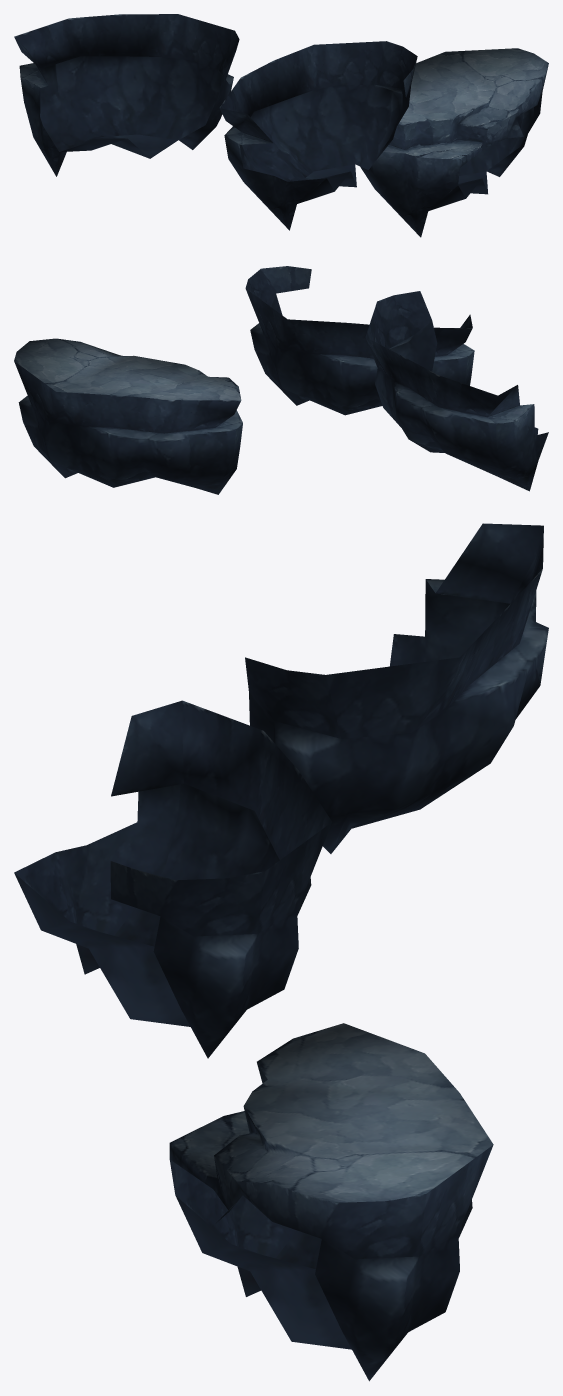
Rendered from Area_04_24.fbx.
The picture shows the model from 3 angles, top to bottom: view 1: azimuth 30°, elevation 25°; view 2: azimuth 150°, elevation 25°; view 3: azimuth 270°, elevation 25°; orthographic projection. The views are drawn at different scales.
Visible parts, largest first — view 1: Area_04_24; view 2: Area_04_24; view 3: Area_04_24.
Boxes of the visible parts, x1=… form: Area_04_24: x1=14, y1=14, x2=548, y2=237; Area_04_24: x1=14, y1=266, x2=548, y2=494; Area_04_24: x1=14, y1=523, x2=548, y2=1381.
Bounding box in the file's own units: 15374 × 6961 × 7306.
